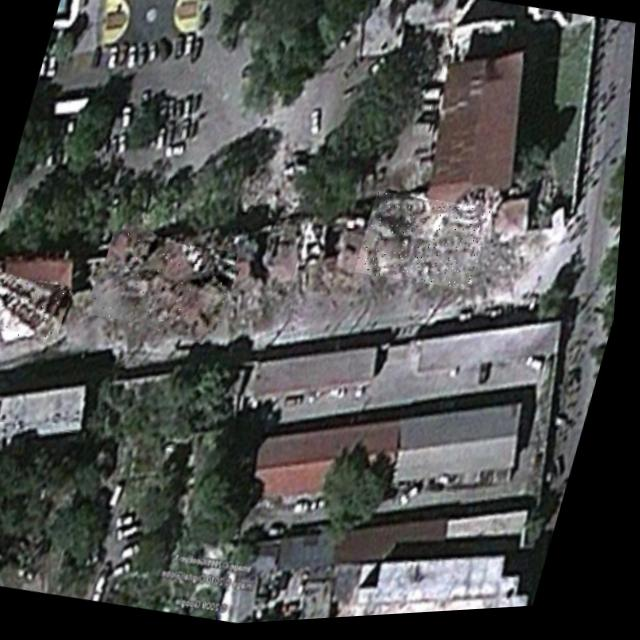Rubble: (88, 222, 248, 349), (357, 190, 498, 301), (0, 268, 78, 346)
